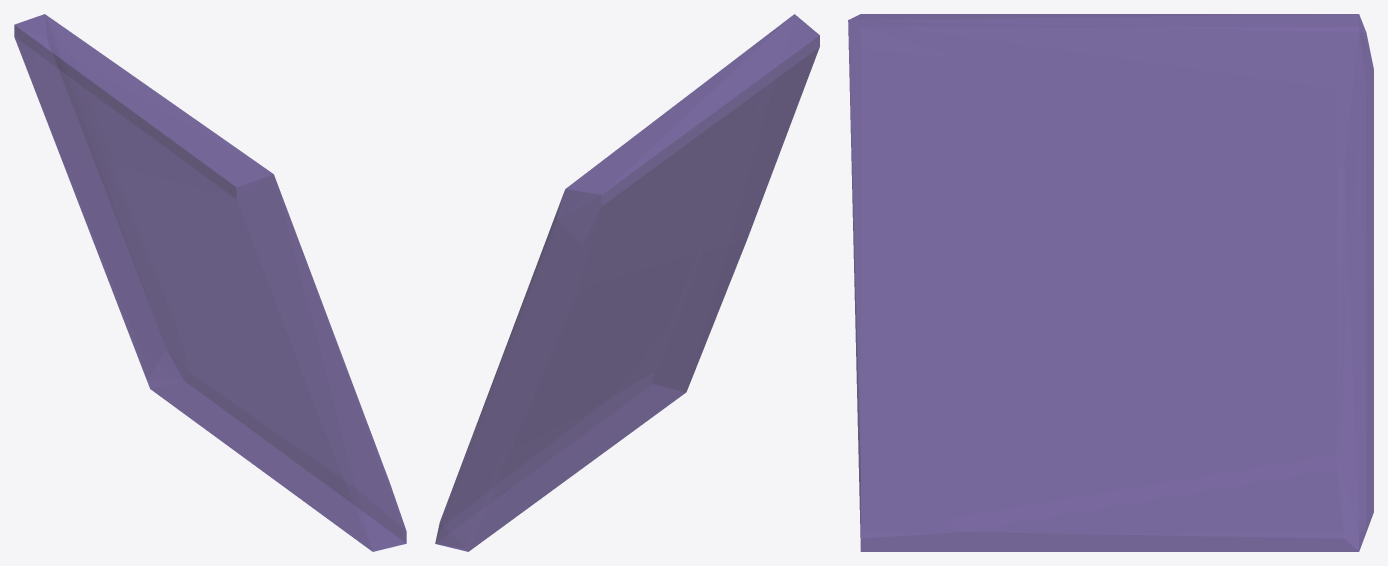
The picture shows the model from 3 angles, left to right: view 1: azimuth 30°, elevation 25°; view 2: azimuth 150°, elevation 25°; view 3: azimuth 270°, elevation 25°; orthographic projection. The views are drawn at different scales.
Visible parts, largest first — view 1: Shape_IndexedFaceSet.012_Shape_IndexedFaceSet.17988; view 2: Shape_IndexedFaceSet.012_Shape_IndexedFaceSet.17988; view 3: Shape_IndexedFaceSet.012_Shape_IndexedFaceSet.17988.
Boxes of the visible parts, box(x1,y1,x2,y2) form: Shape_IndexedFaceSet.012_Shape_IndexedFaceSet.17988: box(14, 14, 406, 551); Shape_IndexedFaceSet.012_Shape_IndexedFaceSet.17988: box(435, 14, 819, 551); Shape_IndexedFaceSet.012_Shape_IndexedFaceSet.17988: box(848, 14, 1373, 551).
Size of the model in its own units: 0.2279 by 0.5217 by 0.545.
